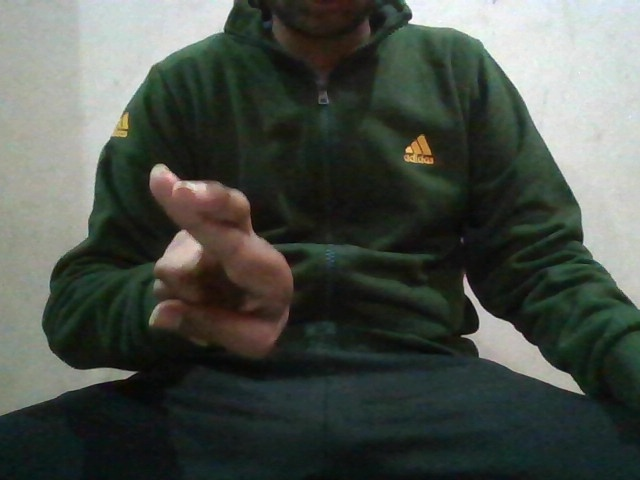R: (120, 159, 301, 357)
